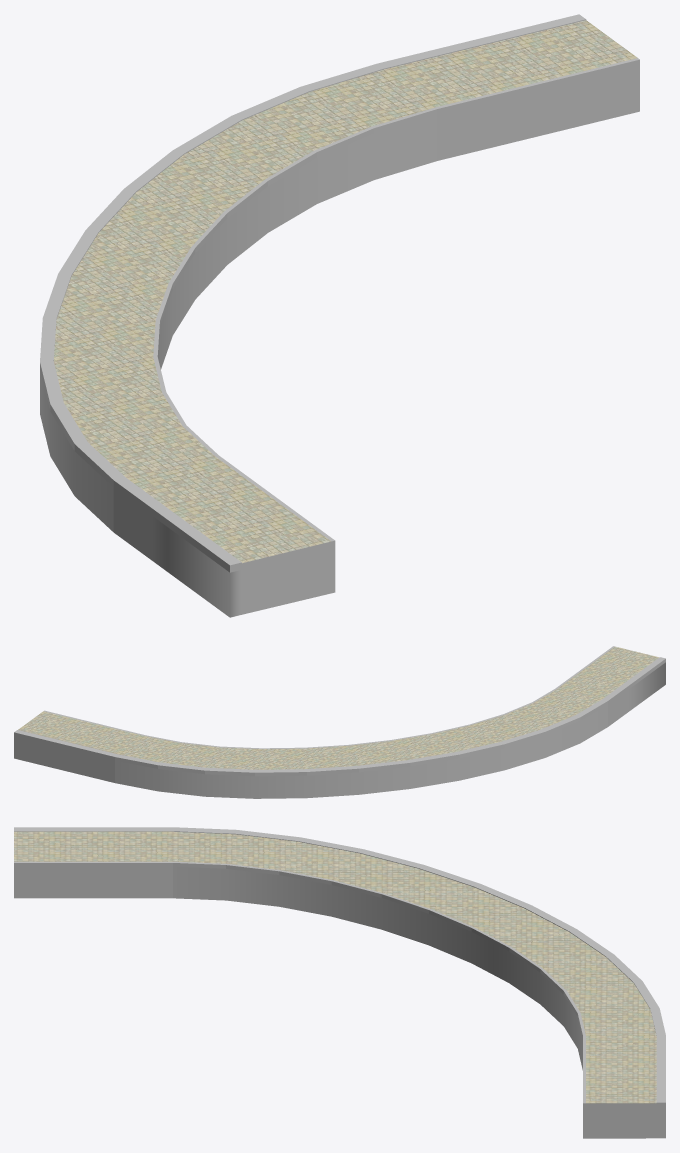
Rendered from road_01w_cv_out.fbx.
The picture shows the model from 3 angles, top to bottom: view 1: azimuth 30°, elevation 25°; view 2: azimuth 150°, elevation 25°; view 3: azimuth 270°, elevation 25°; orthographic projection. The views are drawn at different scales.
Parts seen in each view (by area): view 1: road_01w_cv_out; view 2: road_01w_cv_out; view 3: road_01w_cv_out.
Part boxes in pixels (x1,y1,x2,y2): road_01w_cv_out: (40, 14, 639, 617); road_01w_cv_out: (14, 646, 665, 798); road_01w_cv_out: (14, 827, 665, 1138).
Bounding box in the file's own units: 36.95 × 2.26 × 36.96.
